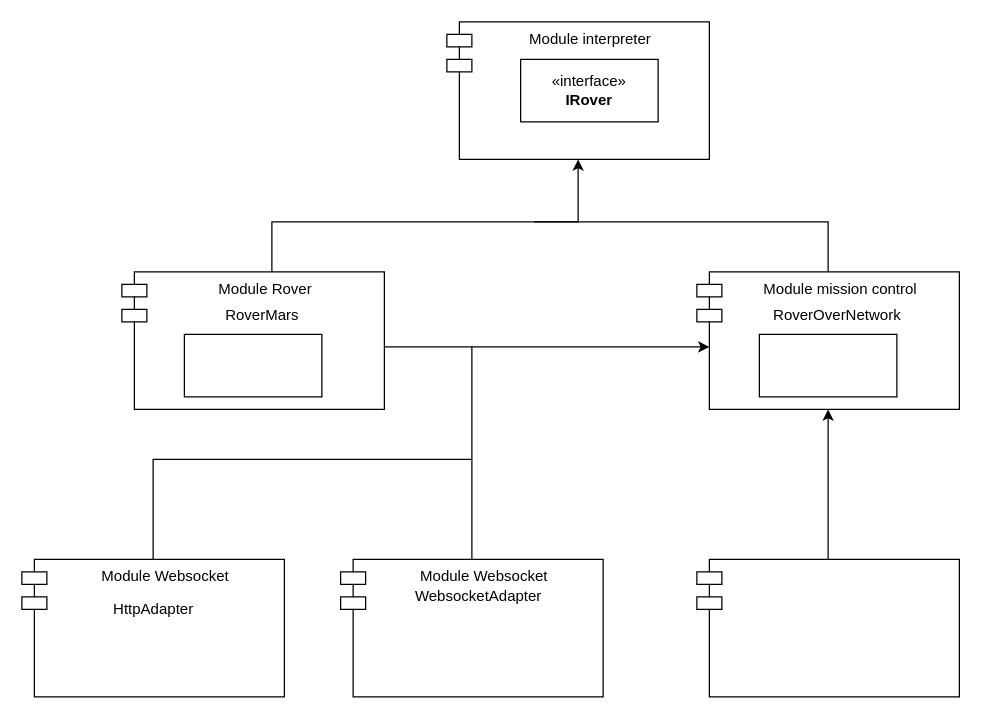
This 981x719 diagram has some shape labels left out. Here are the shapes that lost their labels. From the top down, the centre of each, then its label:
At point (252, 365): "«interface» IReceivePacket".
At point (827, 365): "«interface» ISendPacket".
At point (827, 627): "Module UI".
